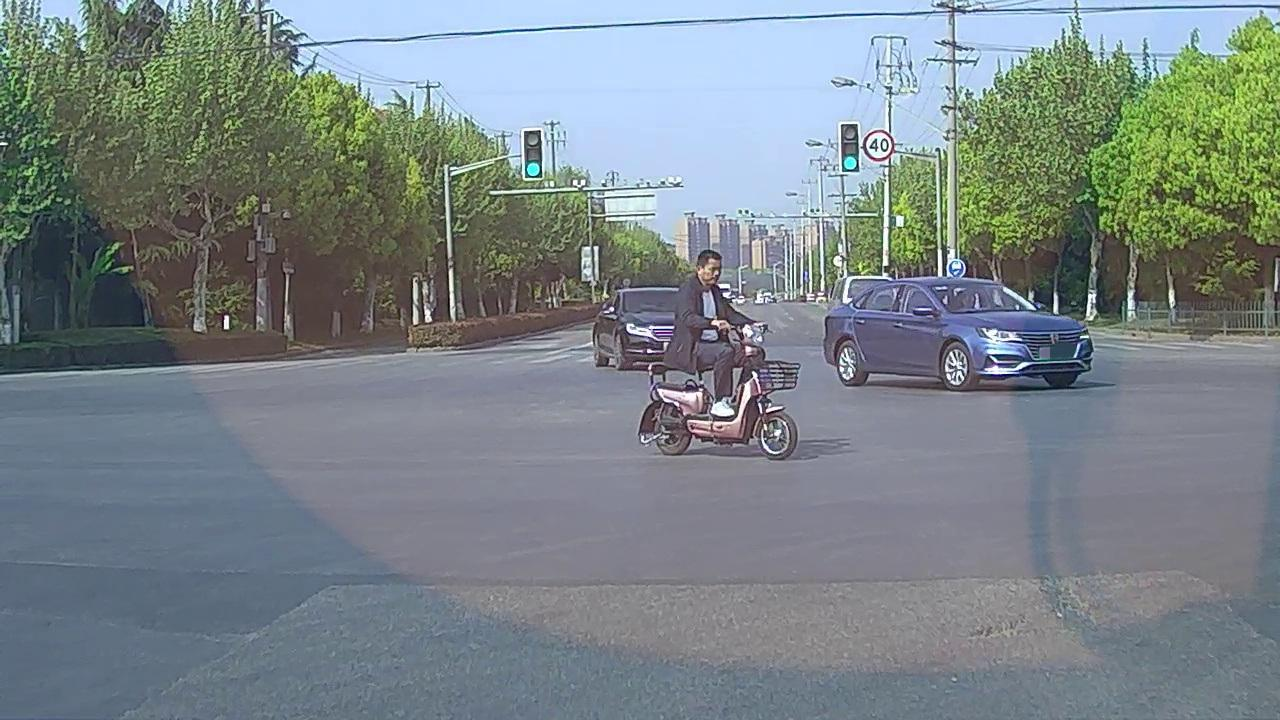traffic_light: (522, 129, 544, 181), (843, 125, 859, 172)
